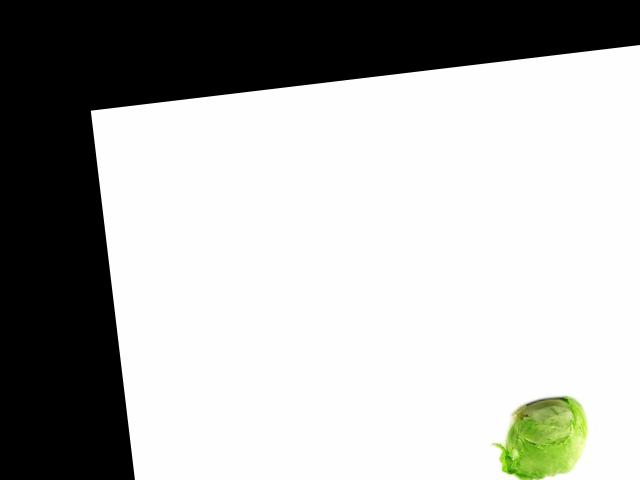lettuce: (496, 390, 597, 480)
